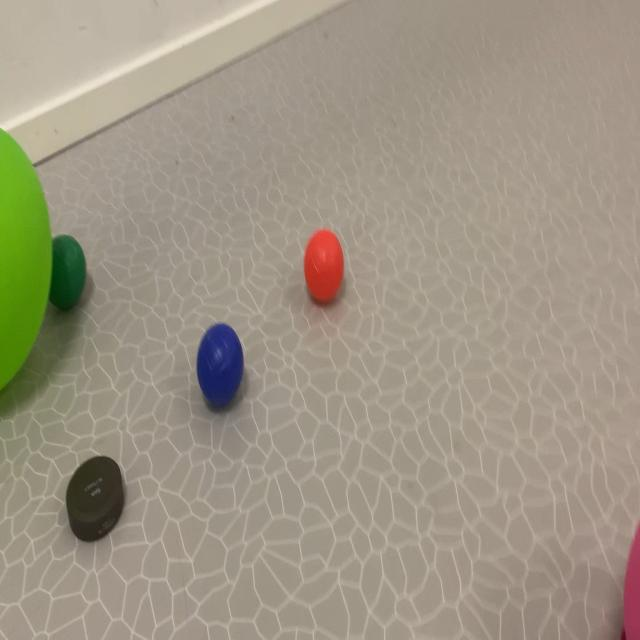7: (283, 214, 381, 370)
green ball: (187, 287, 257, 471)
red ball: (50, 204, 96, 362)
